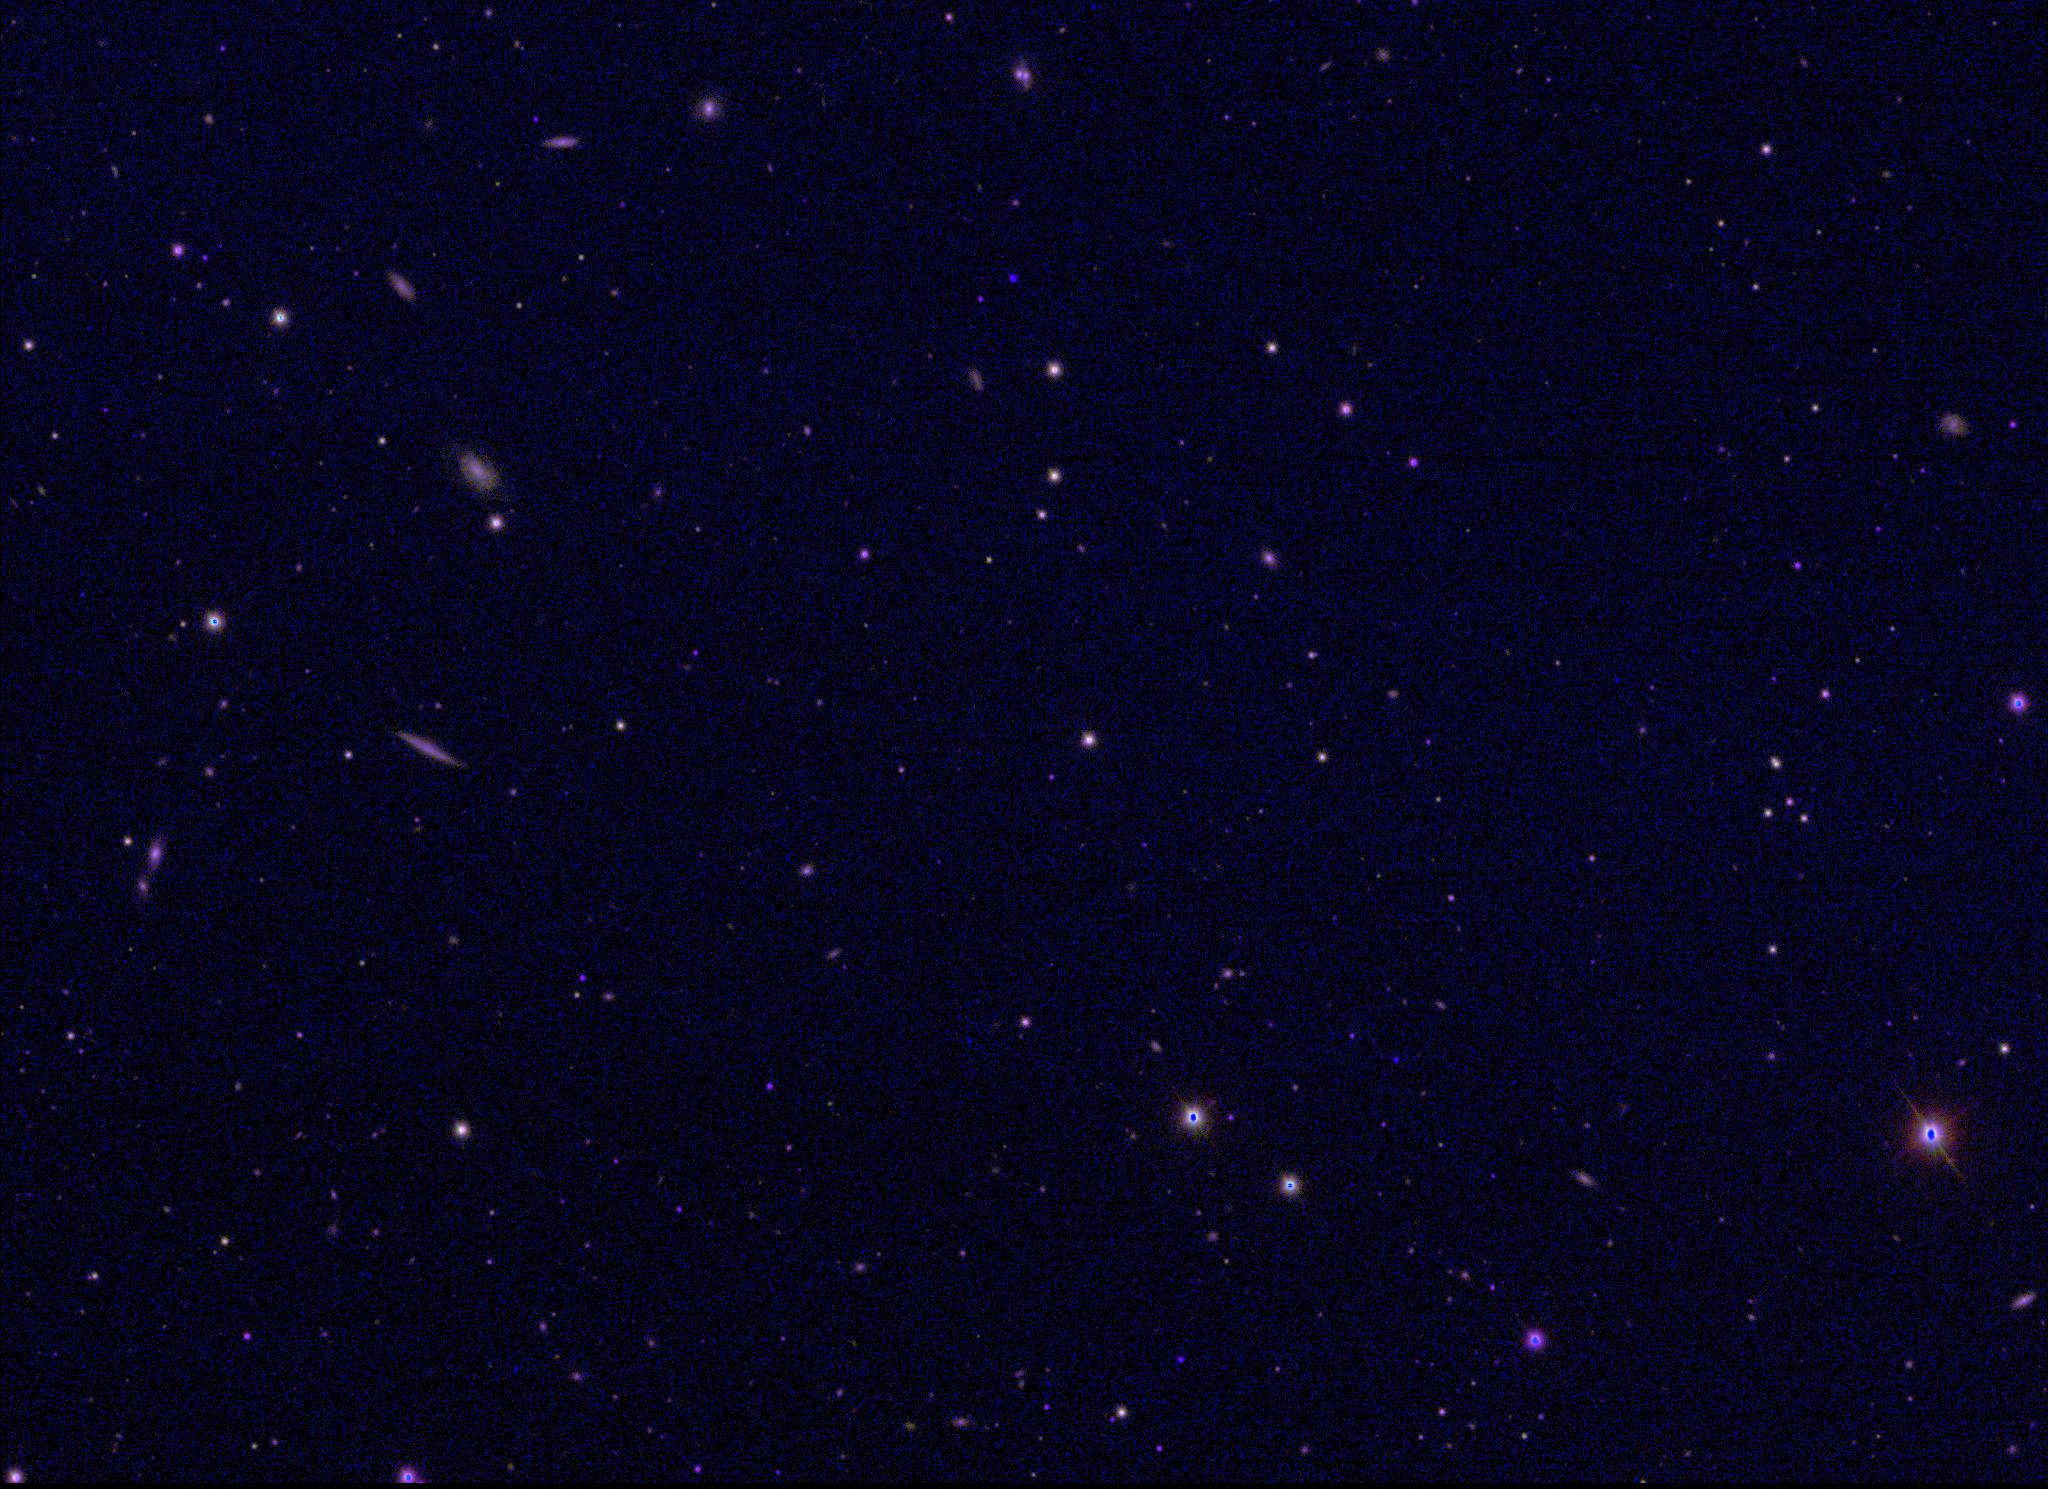L: (1390, 1052, 1402, 1066)
